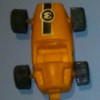naranja: (13, 4, 89, 98)
